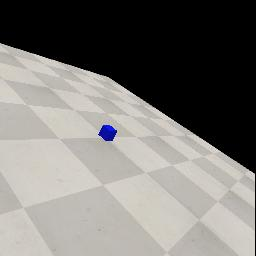box: (98, 125, 117, 141)
